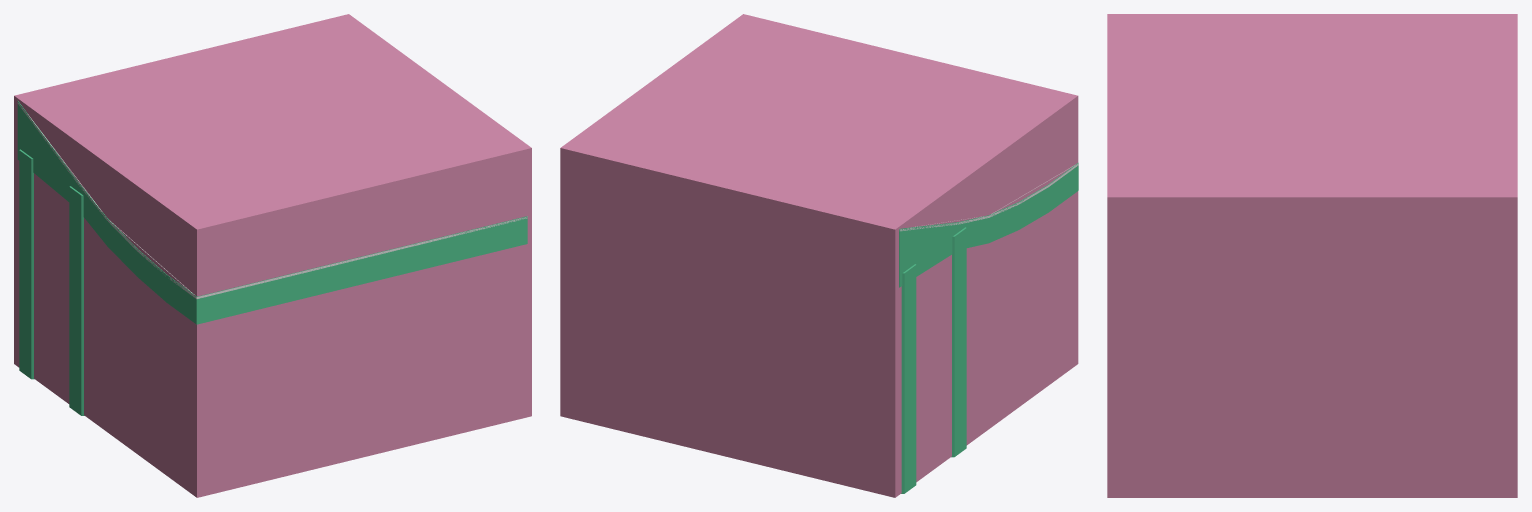
The model's file is bld_jump_01_mild_16m.dae.
3 renders of one model, left to right at view 1: azimuth 30°, elevation 25°; view 2: azimuth 150°, elevation 25°; view 3: azimuth 270°, elevation 25°, orthographic. The views are drawn at different scales.
Visible parts, largest first — view 1: Untitled, Colmesh-1, ind_bld_a500; view 2: Untitled, Colmesh-1; view 3: Untitled.
Boxes of the visible parts, x1=… form: Untitled: x1=14, y1=14, x2=531, y2=497; Colmesh-1: x1=17, y1=101, x2=527, y2=415; ind_bld_a500: x1=17, y1=102, x2=527, y2=298; Untitled: x1=560, y1=14, x2=1078, y2=497; Colmesh-1: x1=899, y1=162, x2=1078, y2=493; Untitled: x1=1107, y1=14, x2=1517, y2=497.
Bounding box in the file's own units: 16.29 × 15.33 × 12.43.
